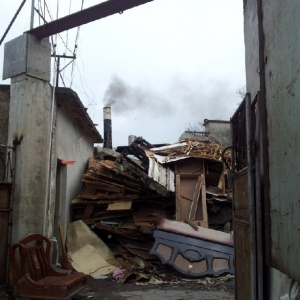dust: (99, 72, 172, 113)
